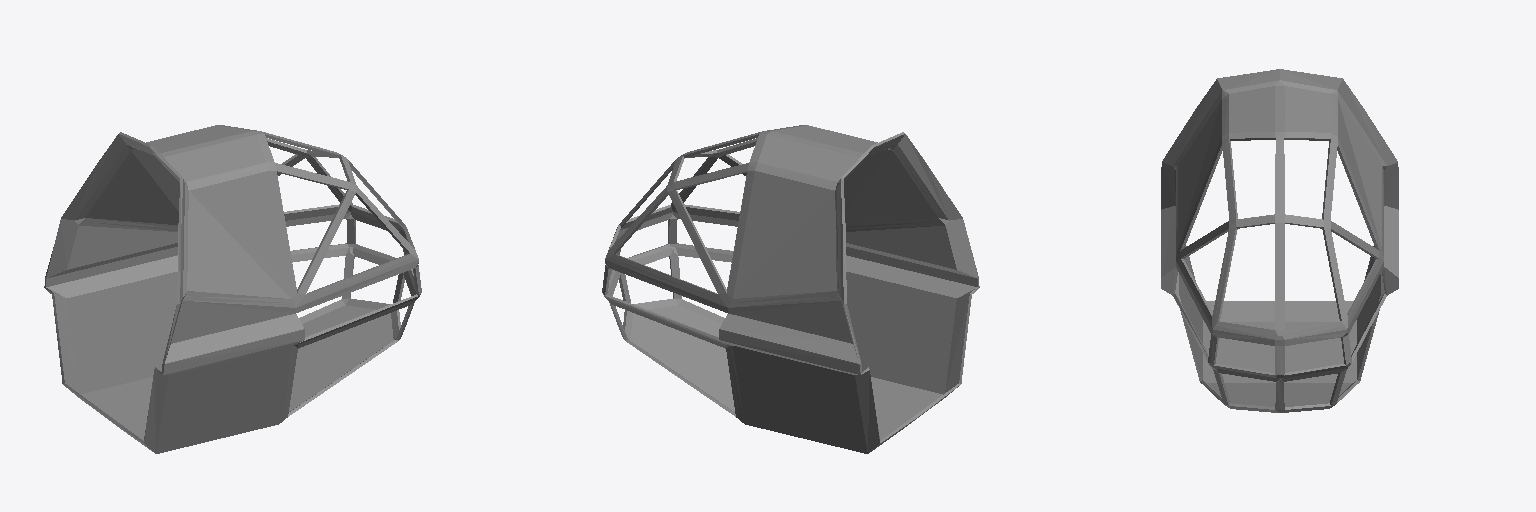
File: Kabina2.obj
3 renders of one model, left to right at view 1: azimuth 30°, elevation 25°; view 2: azimuth 150°, elevation 25°; view 3: azimuth 270°, elevation 25°, orthographic.
Visible parts, largest first — view 1: Trident_Space_Fighter001; view 2: Trident_Space_Fighter001; view 3: Trident_Space_Fighter001.
Part boxes in pixels (left/top/right/bottom): Trident_Space_Fighter001: left=44, top=125, right=421, bottom=453; Trident_Space_Fighter001: left=602, top=125, right=979, bottom=453; Trident_Space_Fighter001: left=1161, top=69, right=1398, bottom=412.
Bounding box in the file's own units: 5537 × 4691 × 3727.